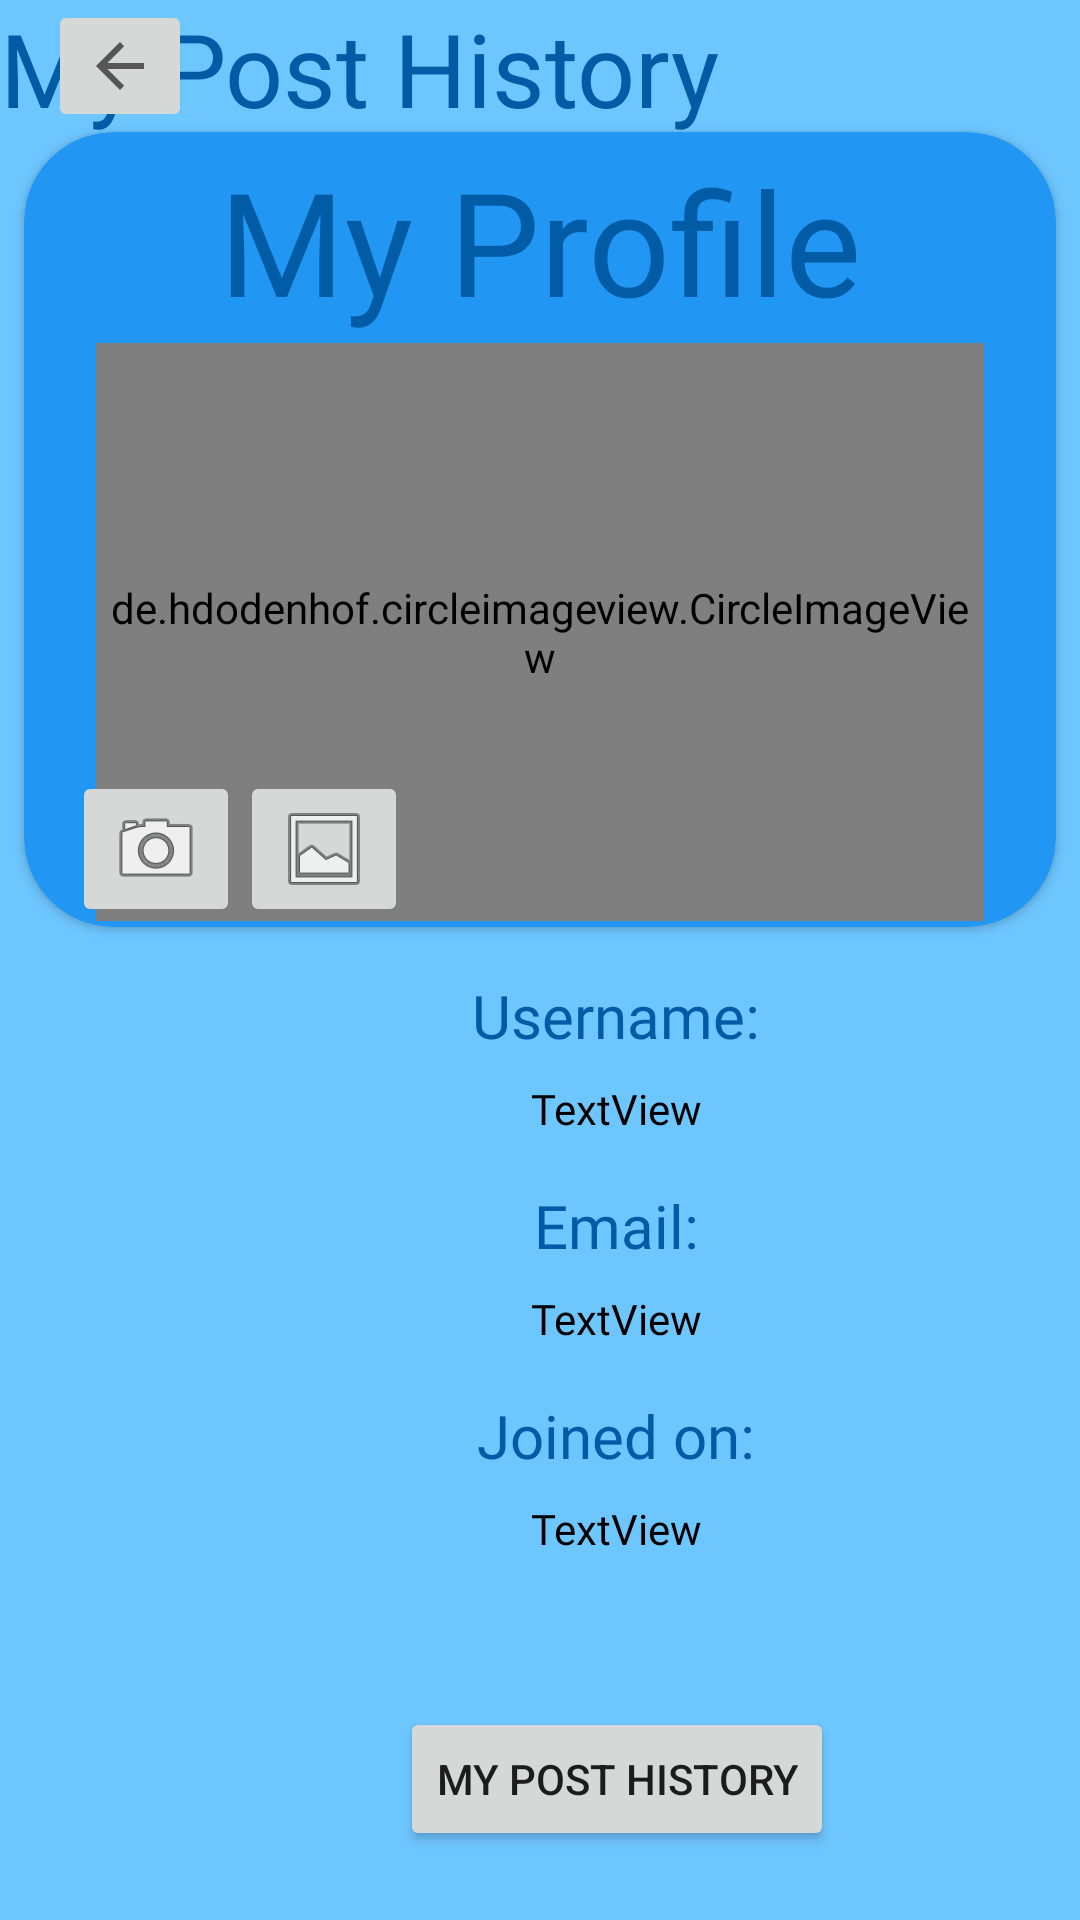

Where to tap for icons on this 1080px×1920px app screen, as (x,y):
camera: (156,849)
gallery: (324,849)
